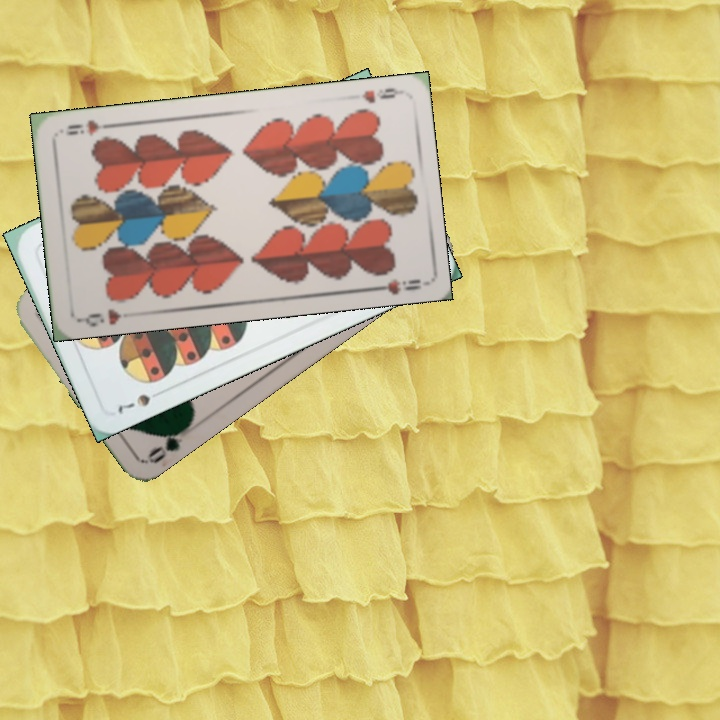GO: (144, 419, 194, 466)
H9: (77, 304, 124, 329), (358, 83, 404, 106)
S7: (113, 390, 153, 418)
